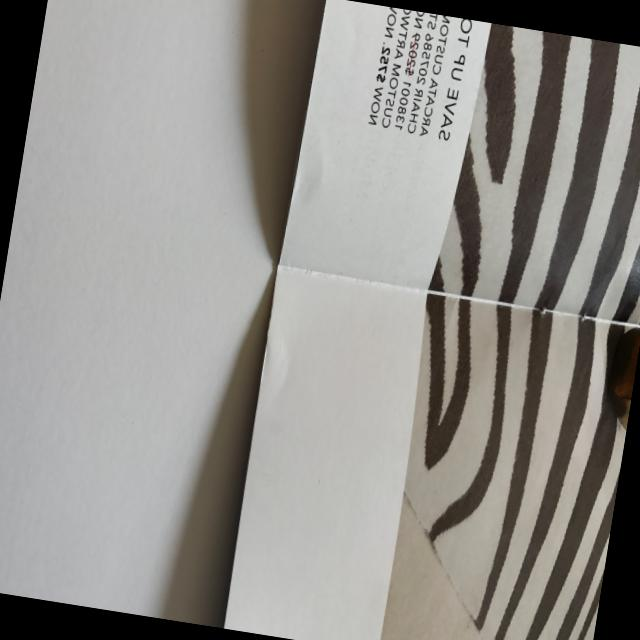Paper: (186, 0, 505, 640)
